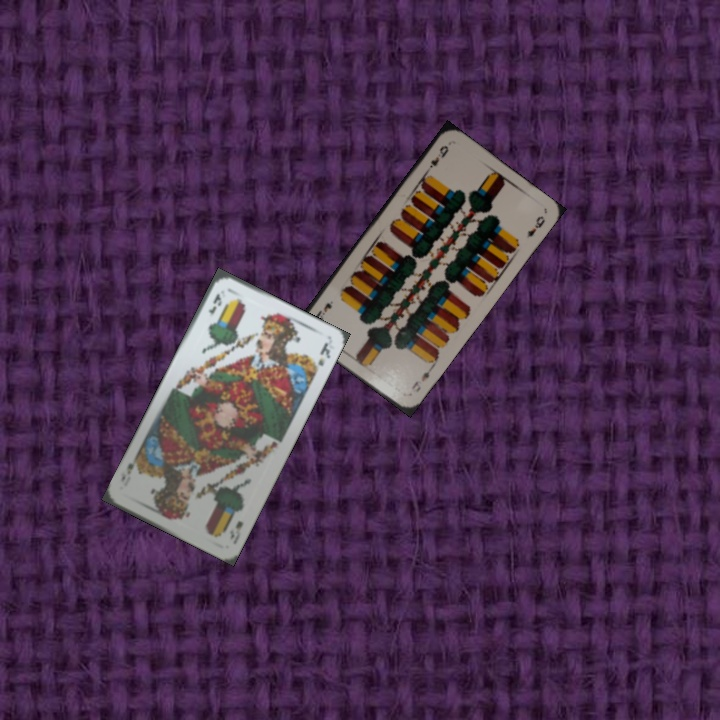E9: (422, 141, 451, 174), (407, 363, 434, 395)
EK: (226, 517, 246, 547), (204, 289, 225, 317)
